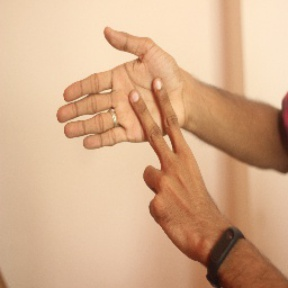N: (51, 25, 212, 208)
